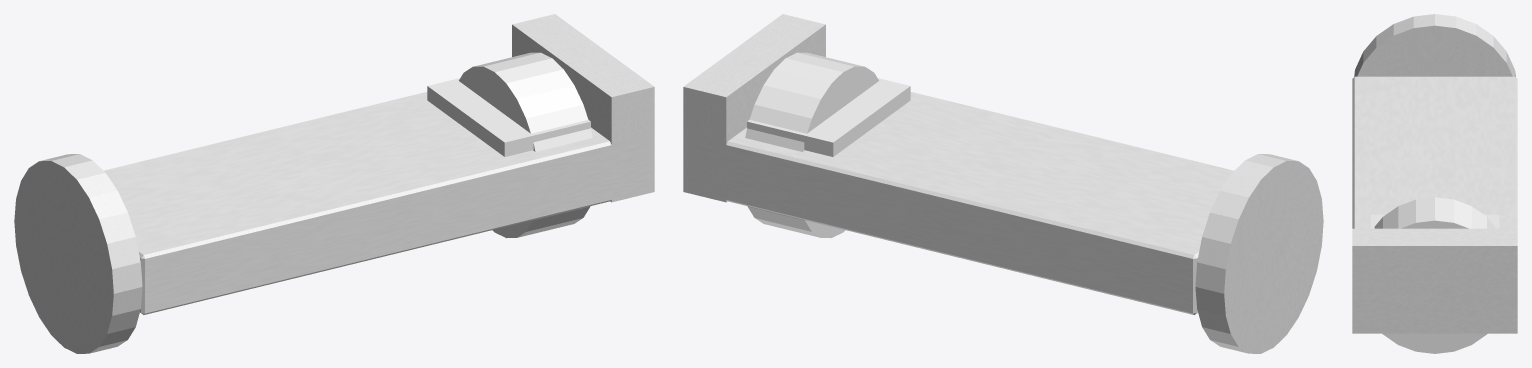
Rendered from modernbladewalklight.obj.
3 renders of one model, left to right at view 1: azimuth 30°, elevation 25°; view 2: azimuth 150°, elevation 25°; view 3: azimuth 270°, elevation 25°, orthographic. The views are drawn at different scales.
Parts seen in each view (by area): view 1: Metal, Base, Light0; view 2: Metal, Base, Light0; view 3: Metal, Base, Light0.
Part boxes in pixels (x1=…): Metal: x1=104, y1=14, x2=654, y2=314; Base: x1=14, y1=154, x2=142, y2=353; Light0: x1=427, y1=52, x2=592, y2=238; Metal: x1=683, y1=14, x2=1233, y2=314; Base: x1=1195, y1=154, x2=1323, y2=353; Light0: x1=745, y1=52, x2=910, y2=238; Metal: x1=1352, y1=76, x2=1517, y2=333; Base: x1=1354, y1=14, x2=1515, y2=76; Light0: x1=1370, y1=197, x2=1499, y2=353.
Size of the model in its own units: 1.13 by 0.36 by 0.36.
